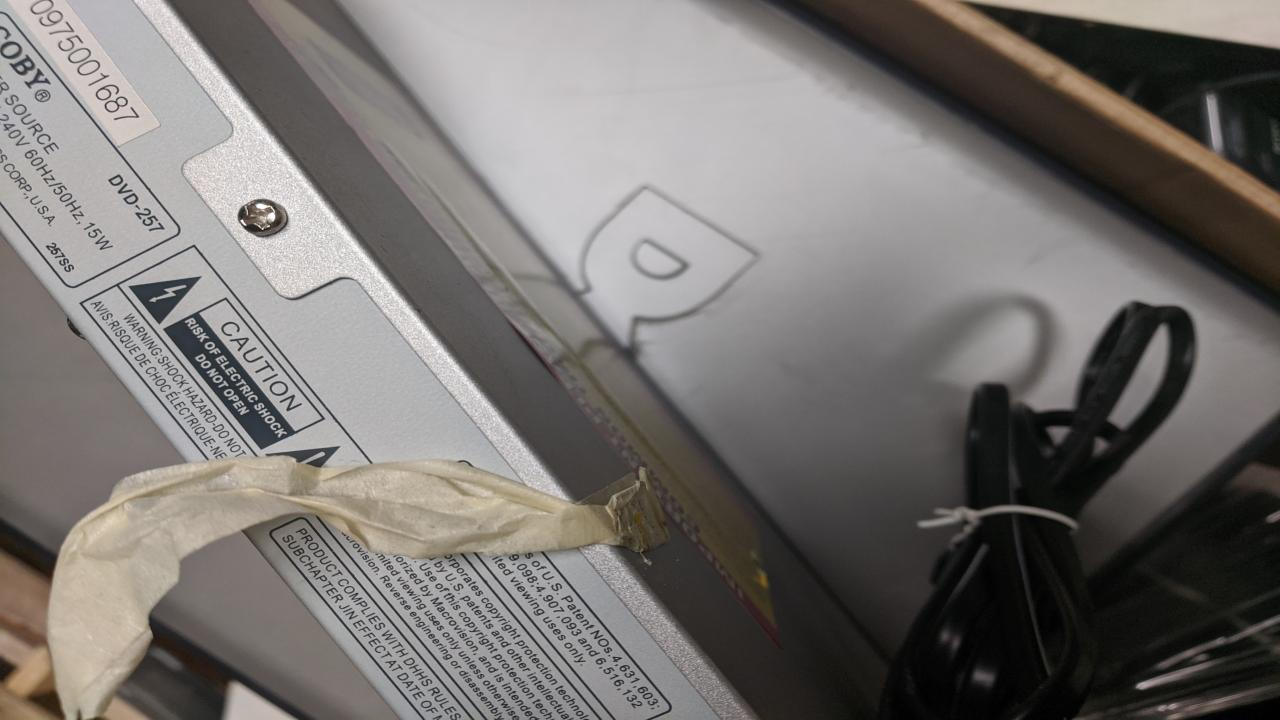CRS: (231, 196, 290, 238)
